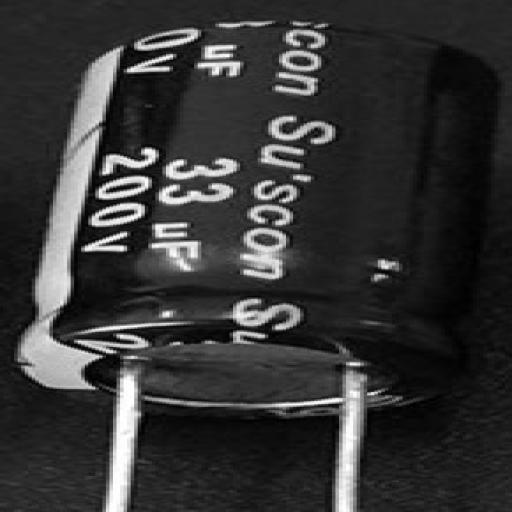CAPACITOR: (10, 16, 494, 416)
